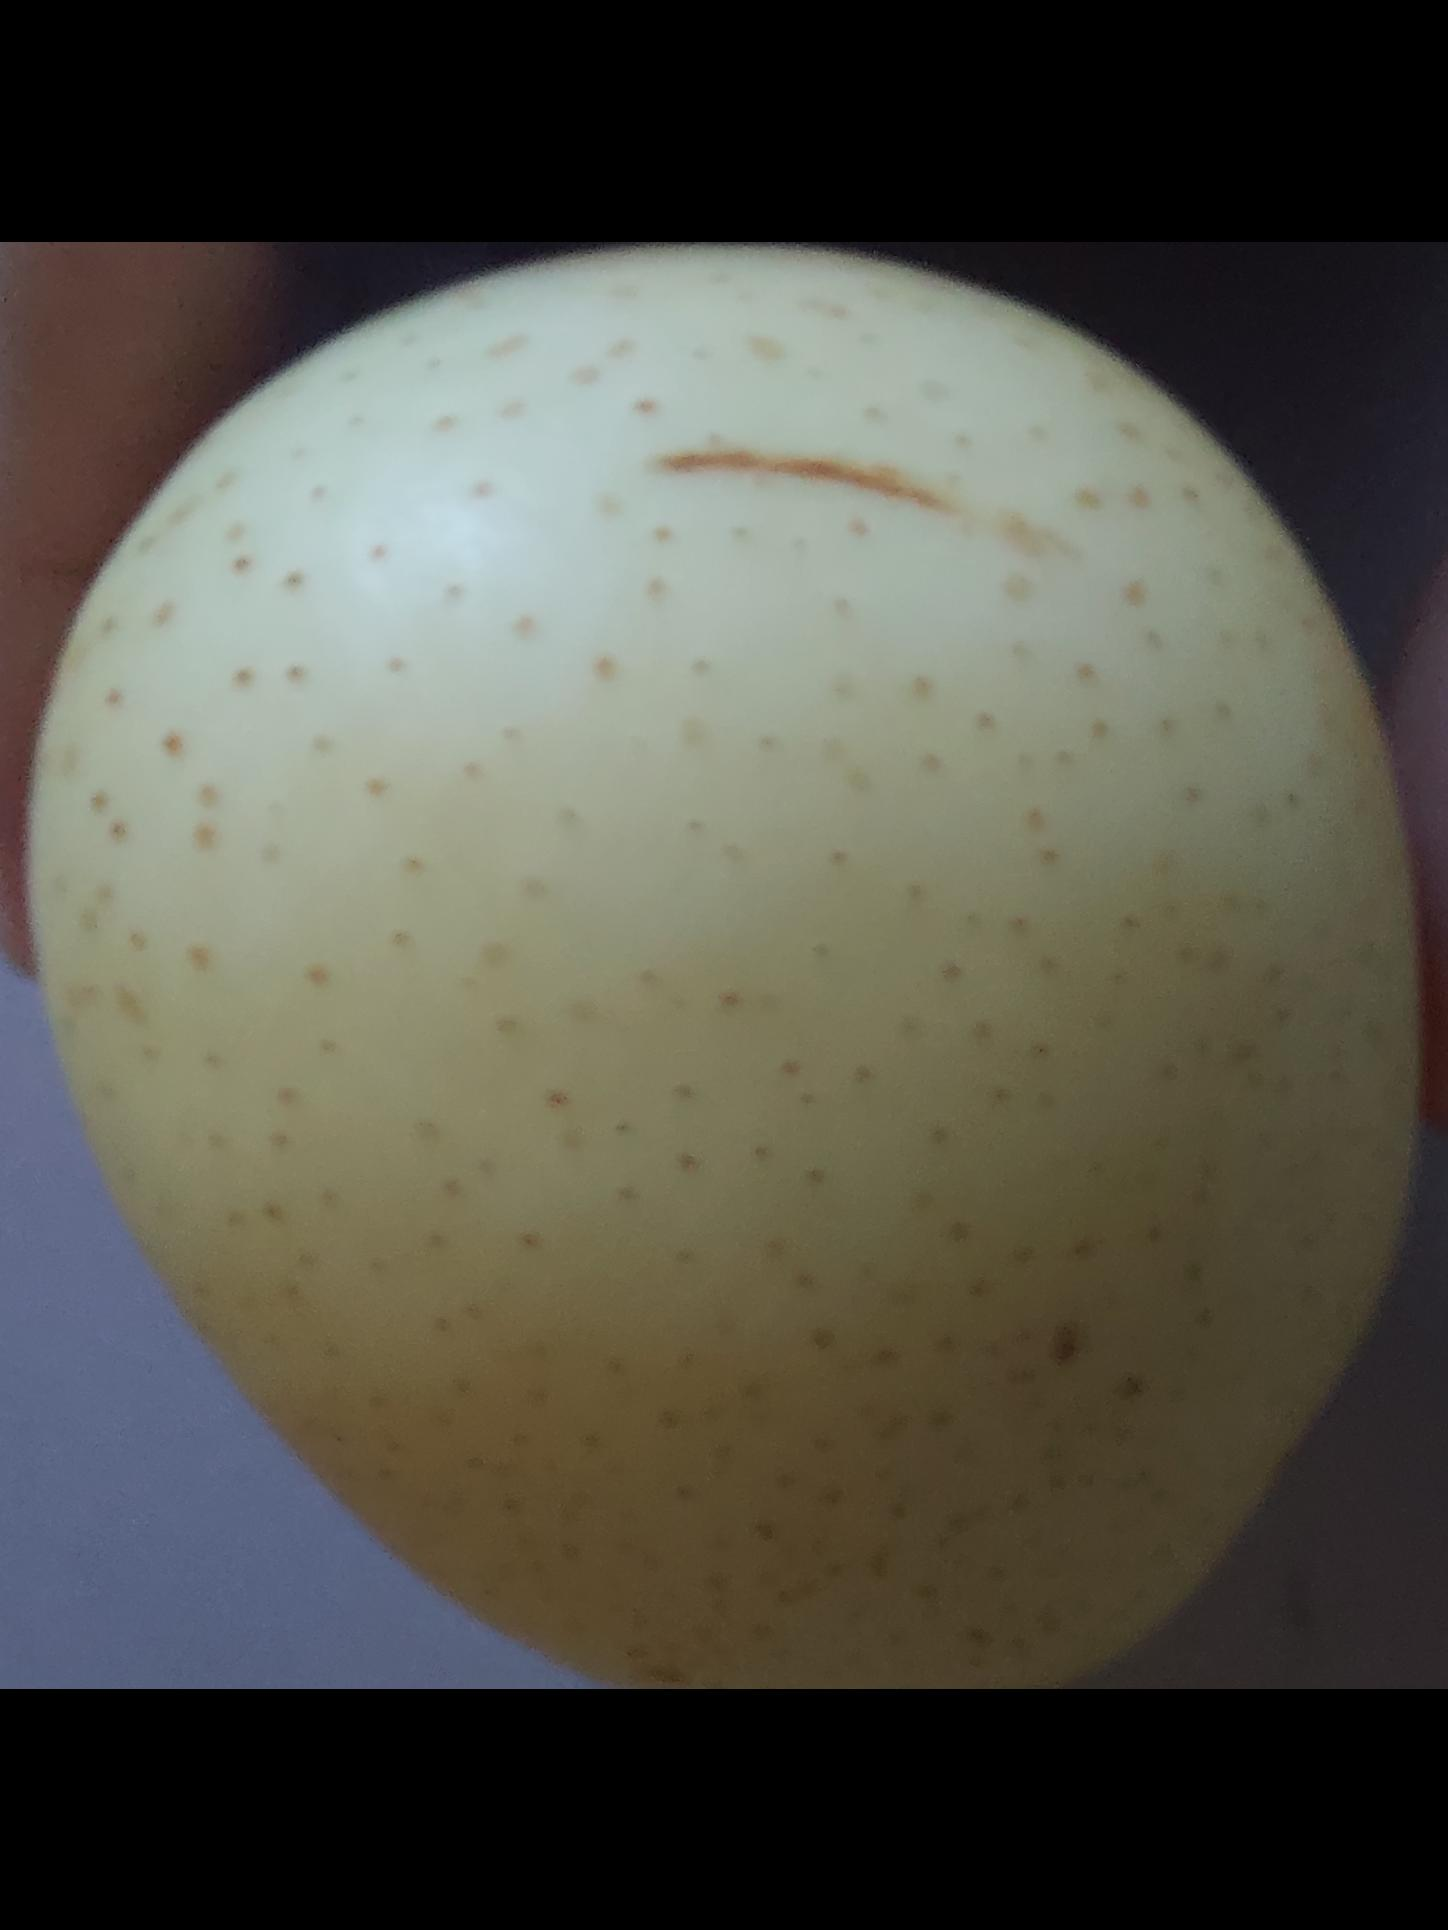Good Pear: (27, 240, 1418, 1690)
